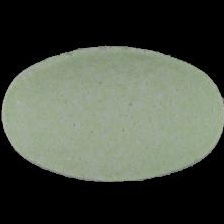67253-902: (0, 0, 224, 224)
